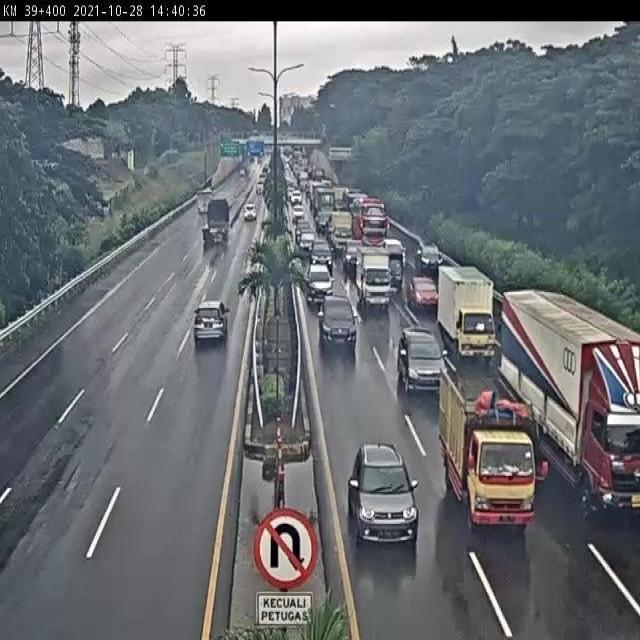Bus: (352, 198, 390, 240)
Car: (344, 445, 421, 549), (394, 328, 446, 397), (317, 296, 358, 354), (191, 298, 229, 351), (308, 264, 336, 302), (408, 278, 438, 312), (329, 212, 354, 251), (417, 245, 444, 272), (309, 242, 333, 268), (243, 202, 257, 222), (289, 193, 305, 209), (301, 232, 316, 249), (294, 212, 304, 227)
Truck: (497, 288, 640, 515), (436, 362, 550, 530), (439, 266, 497, 361), (356, 246, 394, 312), (201, 198, 229, 245)
